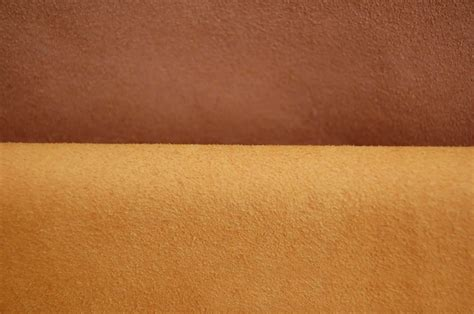gamuza: (1, 1, 474, 314)
